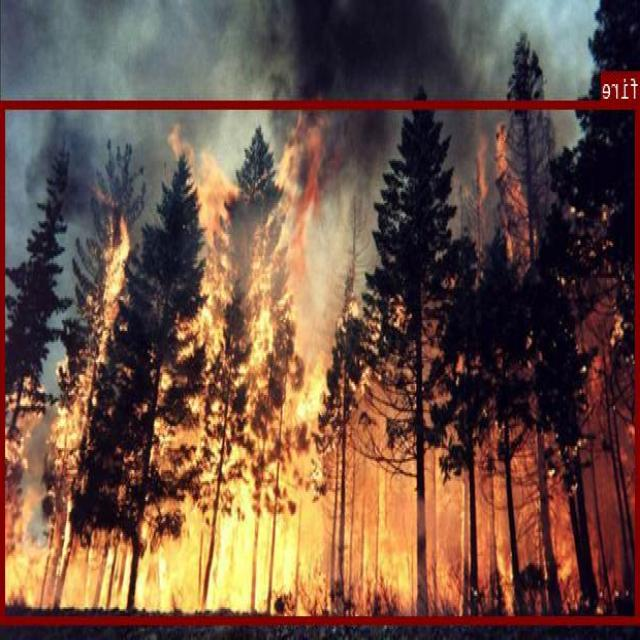fire: (2, 99, 640, 622)
